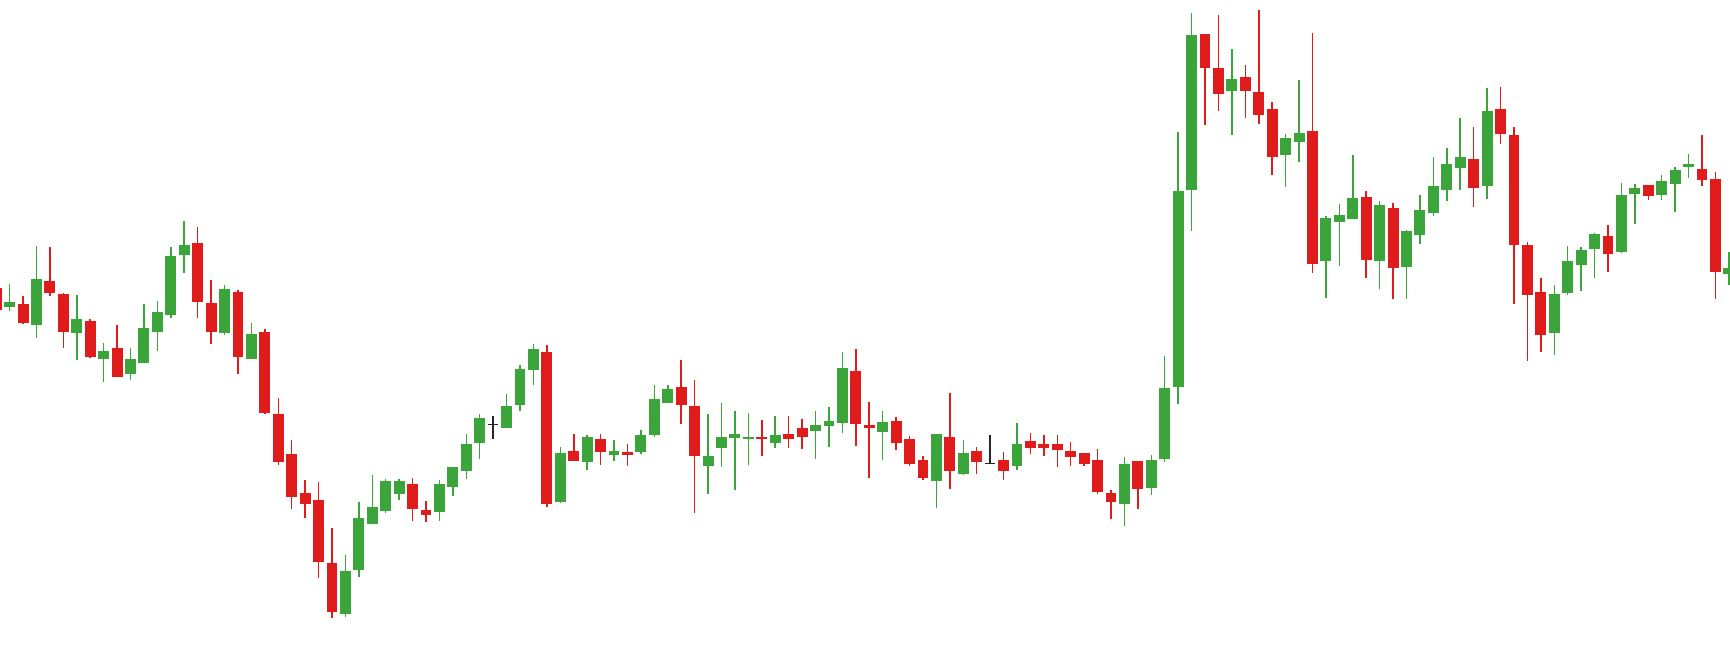buy: (1382, 175, 1573, 360), (930, 420, 1131, 530)
sell: (29, 219, 205, 339)
